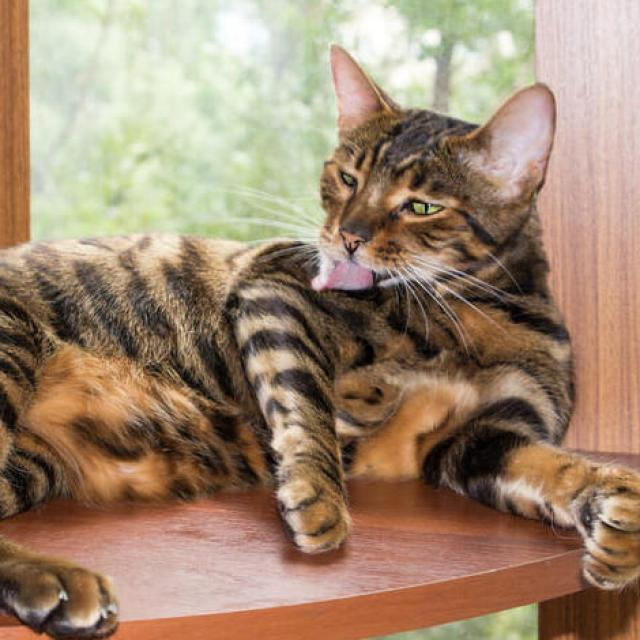Toyger: (0, 35, 640, 640)
